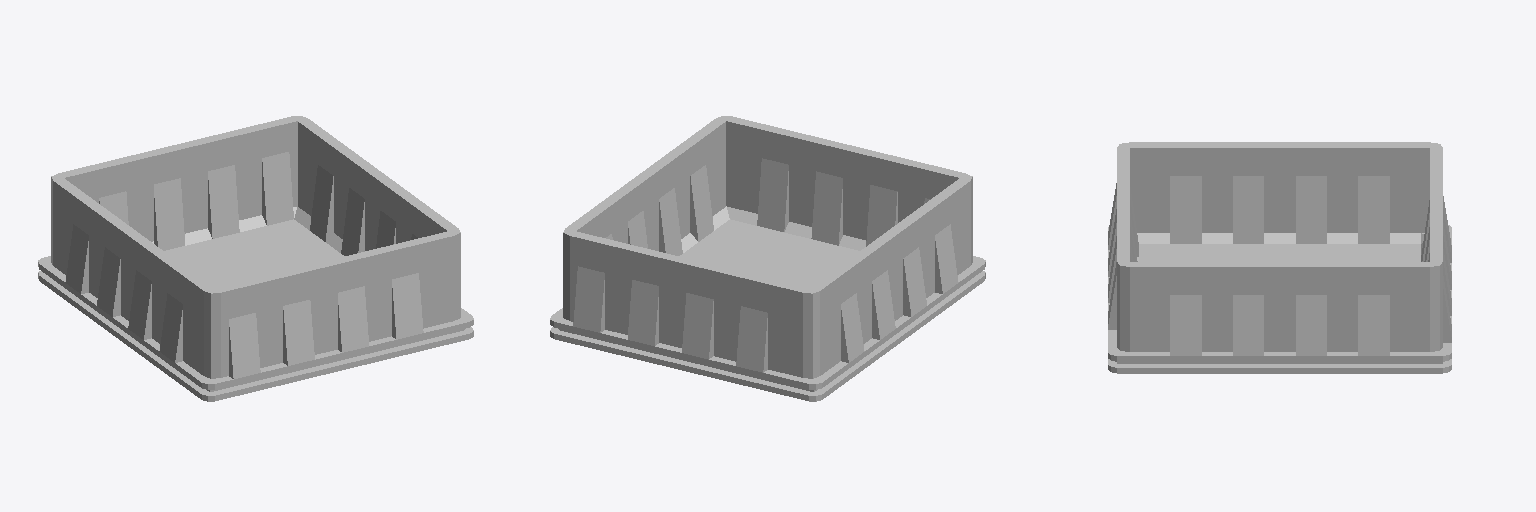
Rendered from cargo-hall-l1-10x10.obj.
3 renders of one model, left to right at view 1: azimuth 30°, elevation 25°; view 2: azimuth 150°, elevation 25°; view 3: azimuth 270°, elevation 25°, orthographic.
Parts seen in each view (by area): view 1: Cube; view 2: Cube; view 3: Cube.
Part boxes in pixels (left/top/right/bottom): Cube: left=38, top=116, right=473, bottom=401; Cube: left=550, top=116, right=985, bottom=401; Cube: left=1108, top=142, right=1451, bottom=373.
Size of the model in its own units: 10 by 3.61 by 11.